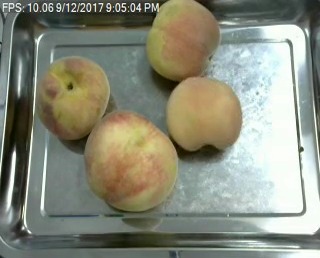Peach: (83, 109, 177, 213), (36, 55, 111, 140), (145, 0, 222, 81), (166, 76, 242, 152)
